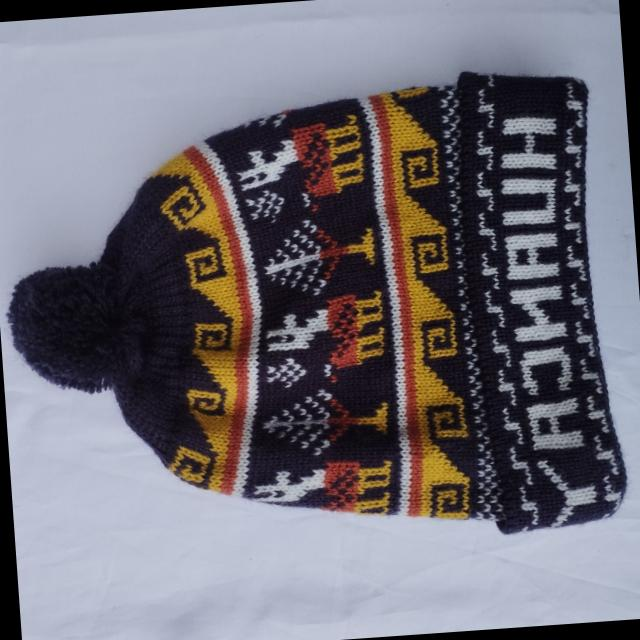Gorro: (0, 62, 631, 569)
